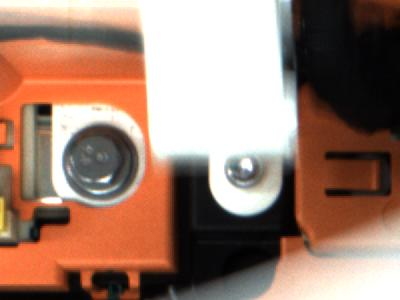nut_b: (55, 124, 153, 204)
